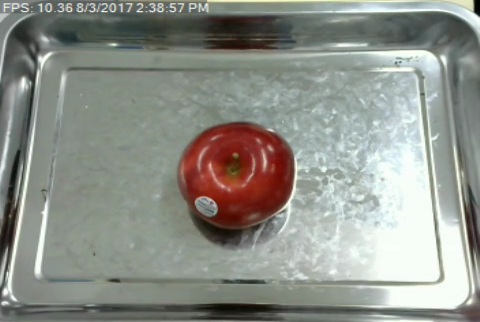Apple: (173, 118, 300, 238)
